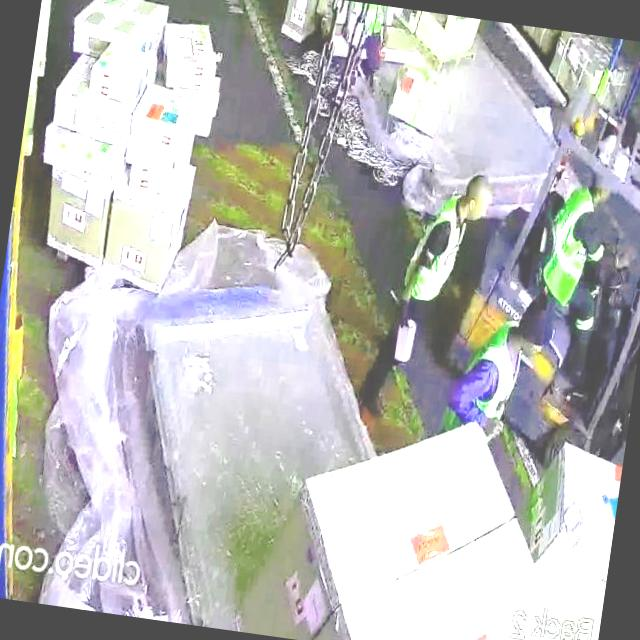Box: (100, 187, 192, 280), (42, 178, 114, 264), (73, 0, 168, 56), (164, 16, 223, 90), (386, 65, 452, 131), (128, 86, 194, 152), (47, 95, 122, 141), (41, 134, 117, 178), (96, 44, 148, 96)
